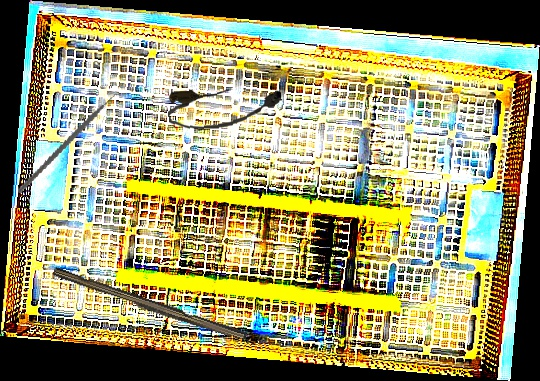Cannula: (166, 84, 284, 132)
Chopper: (17, 74, 128, 213)
Scalpel Handle: (50, 267, 249, 344)
